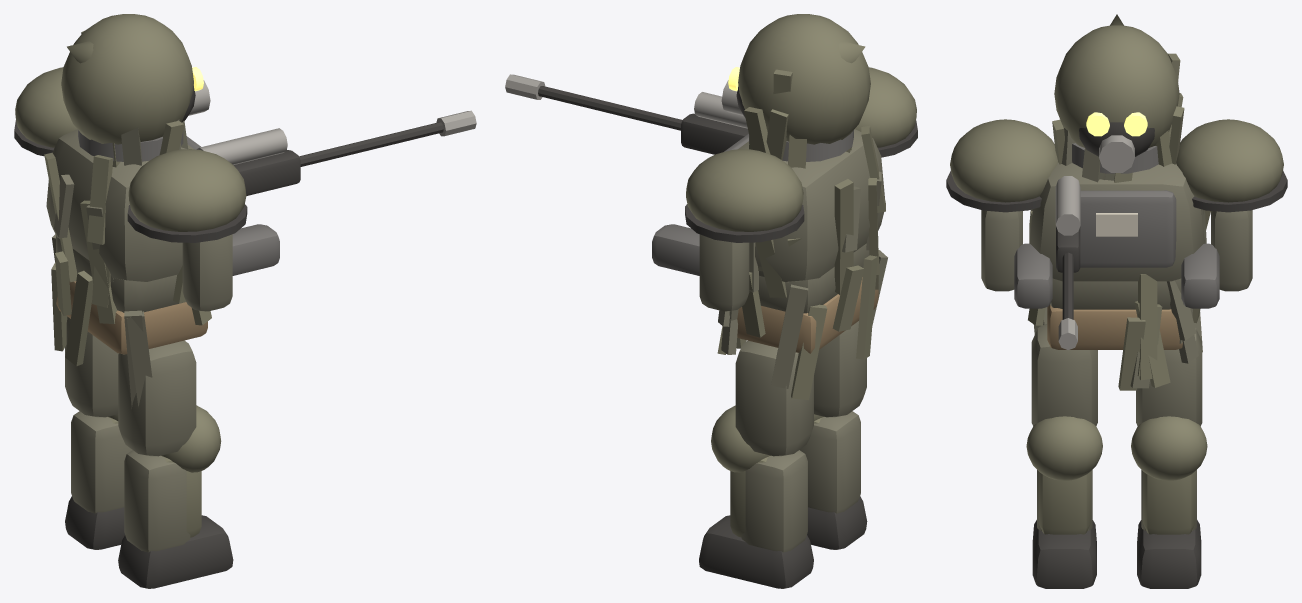
Rendered from hum_comando.glb.
3 renders of one model, left to right at view 1: azimuth 30°, elevation 25°; view 2: azimuth 150°, elevation 25°; view 3: azimuth 270°, elevation 25°, orthographic.
Visible parts, largest first — view 1: torso_m, knee_r_m, knee_l_m, leg_r_m, leg_l_m; view 2: torso_m, knee_l_m, knee_r_m, leg_l_m, leg_r_m; view 3: torso_m, knee_l_m, knee_r_m, leg_r_m, leg_l_m.
Boxes of the visible parts, x1=… form: torso_m: x1=14, y1=14, x2=476, y2=408; knee_r_m: x1=118, y1=405, x2=233, y2=588; knee_l_m: x1=65, y1=411, x2=132, y2=549; leg_r_m: x1=118, y1=340, x2=196, y2=456; leg_l_m: x1=65, y1=316, x2=118, y2=417; torso_m: x1=505, y1=14, x2=917, y2=400; knee_l_m: x1=699, y1=405, x2=813, y2=588; knee_r_m: x1=800, y1=411, x2=867, y2=549; leg_l_m: x1=735, y1=340, x2=813, y2=456; leg_r_m: x1=814, y1=321, x2=866, y2=417; torso_m: x1=946, y1=14, x2=1287, y2=390; knee_l_m: x1=1131, y1=416, x2=1207, y2=588; knee_r_m: x1=1026, y1=416, x2=1102, y2=588; leg_r_m: x1=1031, y1=324, x2=1097, y2=425; leg_l_m: x1=1136, y1=328, x2=1202, y2=425.
Size of the model in its own units: 0.6253 by 0.84 by 0.49.
